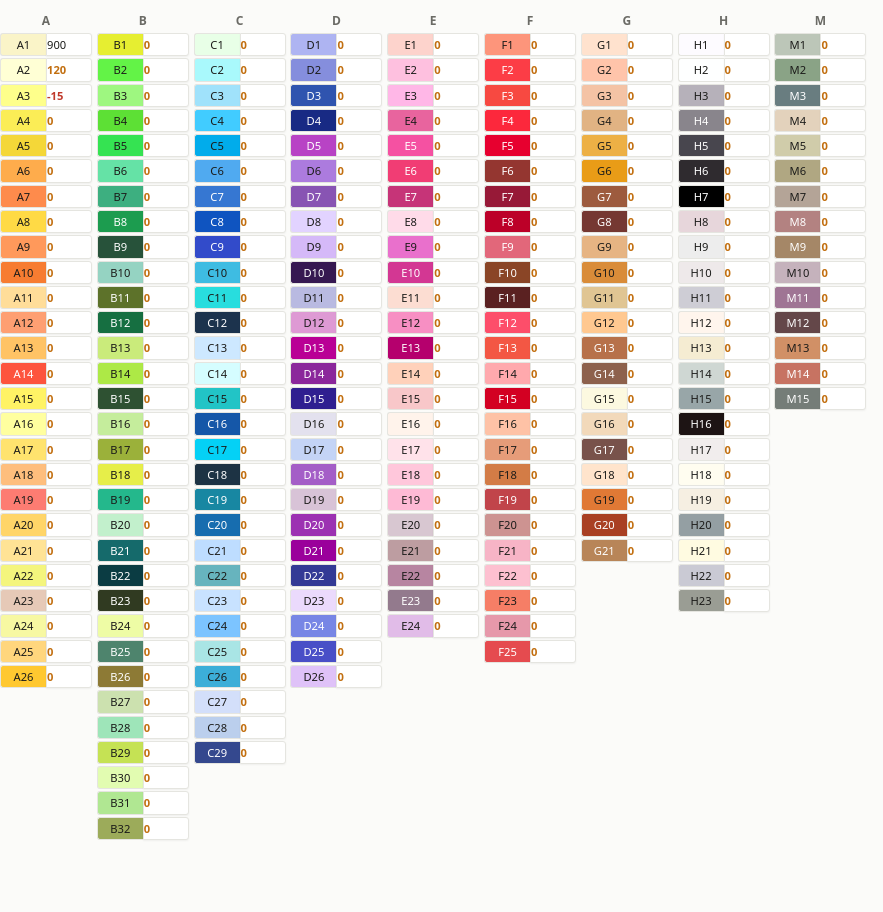
it: InventoryTable › inline edit still commits with PUT and toasts the diff
Click the button "120": {"x": 69, "y": 70} [46,58,92,82]
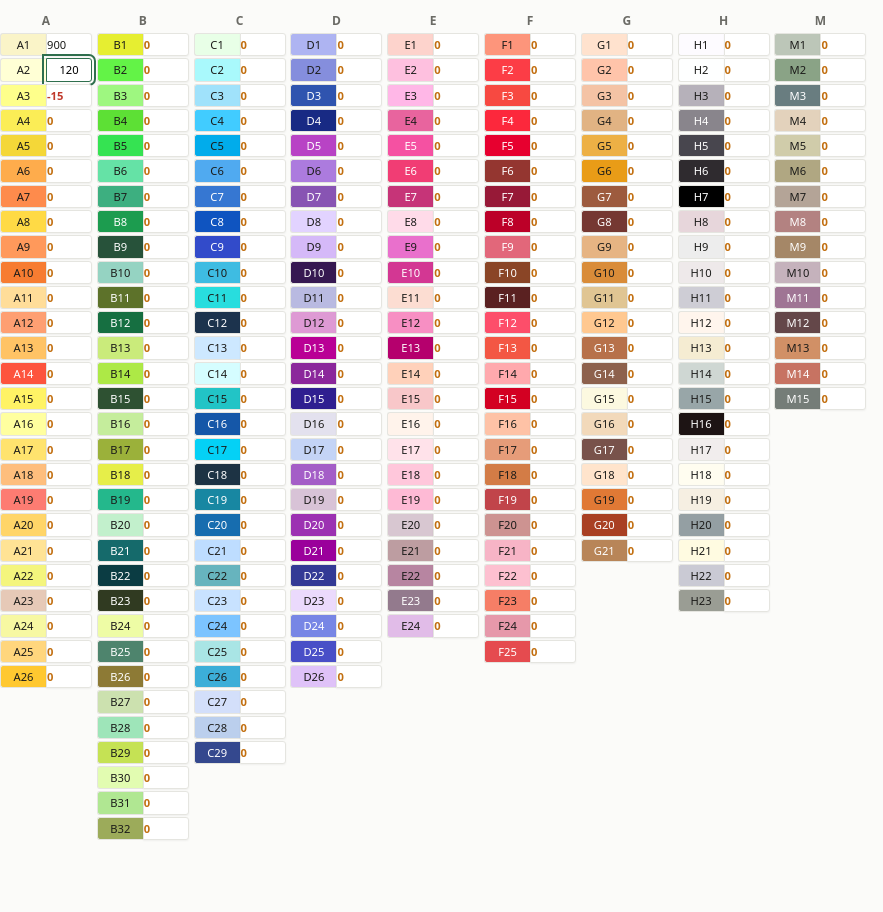
Replace the text in the field named "A2 数量" with "640": {"x": 69, "y": 70} [46,58,92,82]
Then press Enter
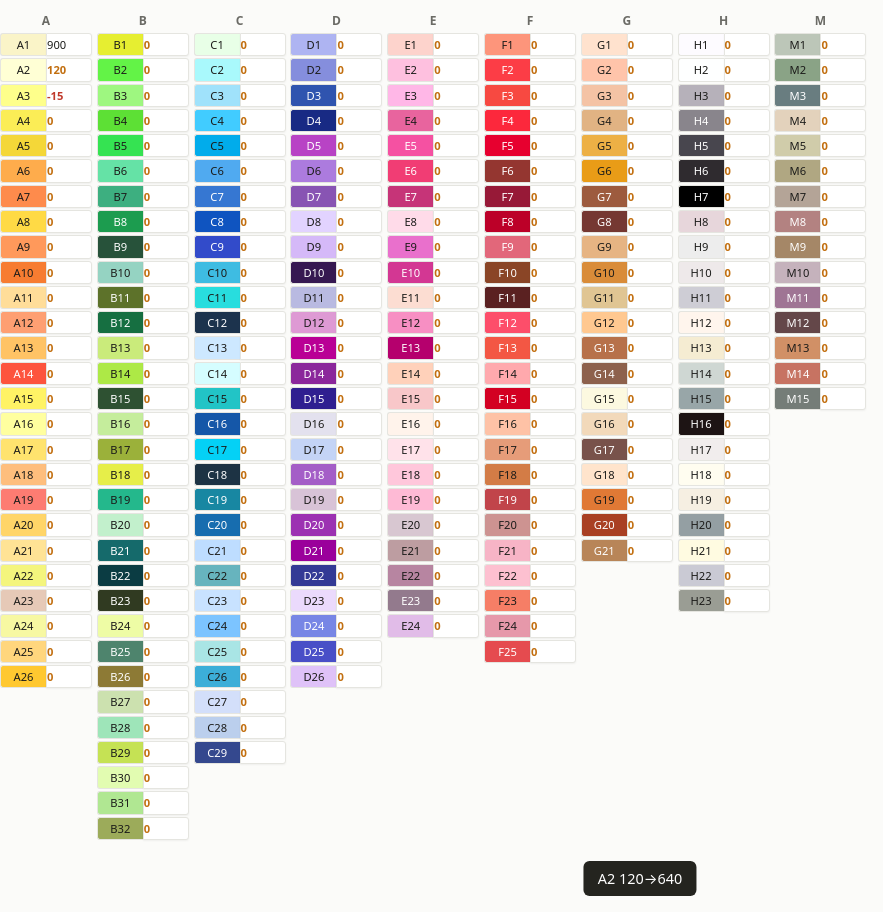
Expected: the message reads "A2 120→640", [598,869,682,888]
